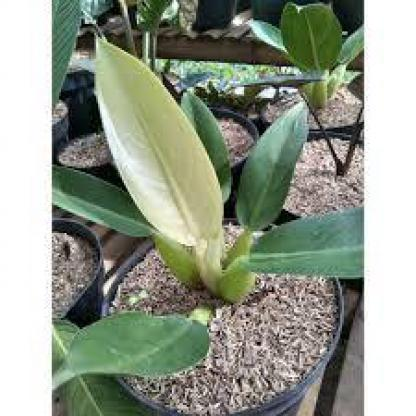Kenanga: (20, 22, 373, 389)
